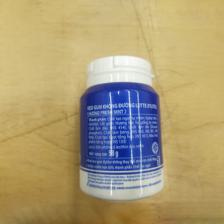Xylitol_blue: (79, 54, 166, 203)
